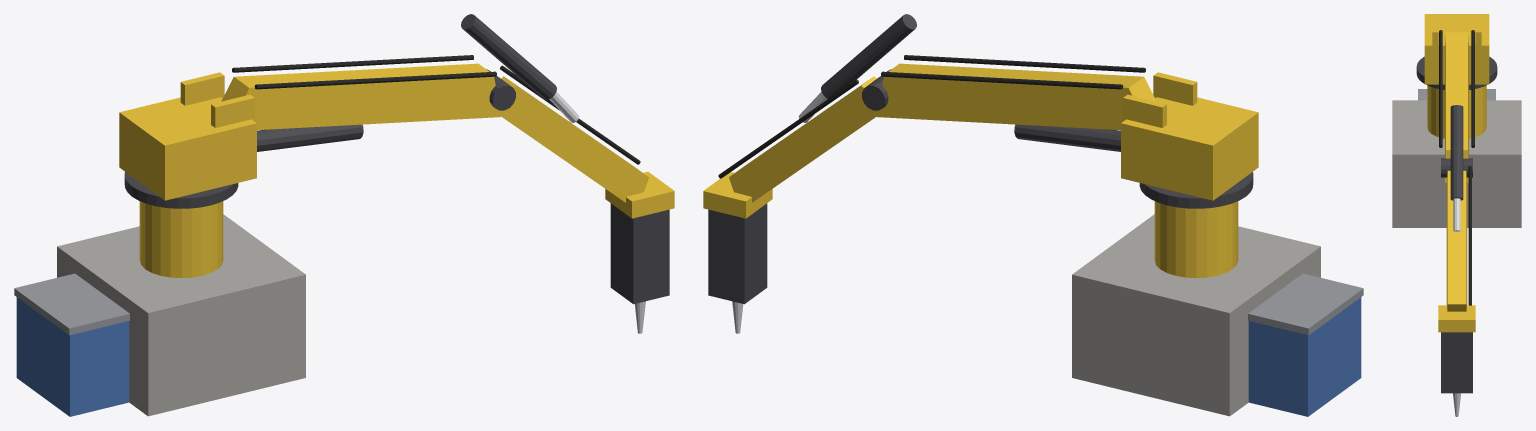
The model's file is MC_RockBreaker.glb.
The picture shows the model from 3 angles, left to right: view 1: azimuth 30°, elevation 25°; view 2: azimuth 150°, elevation 25°; view 3: azimuth 270°, elevation 25°; orthographic projection. The views are drawn at different scales.
Parts seen in each view (by area): view 1: RB_Pedestal, RB_Boom, RB_Slew, RB_Stick, RB_Hammer; view 2: RB_Pedestal, RB_Boom, RB_Slew, RB_Stick, RB_Hammer; view 3: RB_Pedestal, RB_Stick, RB_Boom, RB_Slew, RB_Hammer.
Part boxes in pixels (left/top/right/bottom): RB_Pedestal: left=14, top=172, right=305, bottom=416; RB_Boom: left=221, top=55, right=515, bottom=151; RB_Slew: left=119, top=72, right=256, bottom=200; RB_Stick: left=461, top=14, right=648, bottom=202; RB_Hammer: left=605, top=171, right=674, bottom=333; RB_Pedestal: left=1072, top=172, right=1363, bottom=416; RB_Boom: left=862, top=55, right=1156, bottom=151; RB_Slew: left=1121, top=72, right=1258, bottom=200; RB_Stick: left=718, top=14, right=916, bottom=202; RB_Hammer: left=703, top=172, right=772, bottom=333; RB_Pedestal: left=1392, top=56, right=1521, bottom=227; RB_Stick: left=1446, top=105, right=1471, bottom=311; RB_Boom: left=1439, top=30, right=1474, bottom=182; RB_Slew: left=1424, top=14, right=1489, bottom=84; RB_Hammer: left=1438, top=305, right=1475, bottom=416.
Size of the model in its own units: 9.42 by 5.21 by 2.4.
